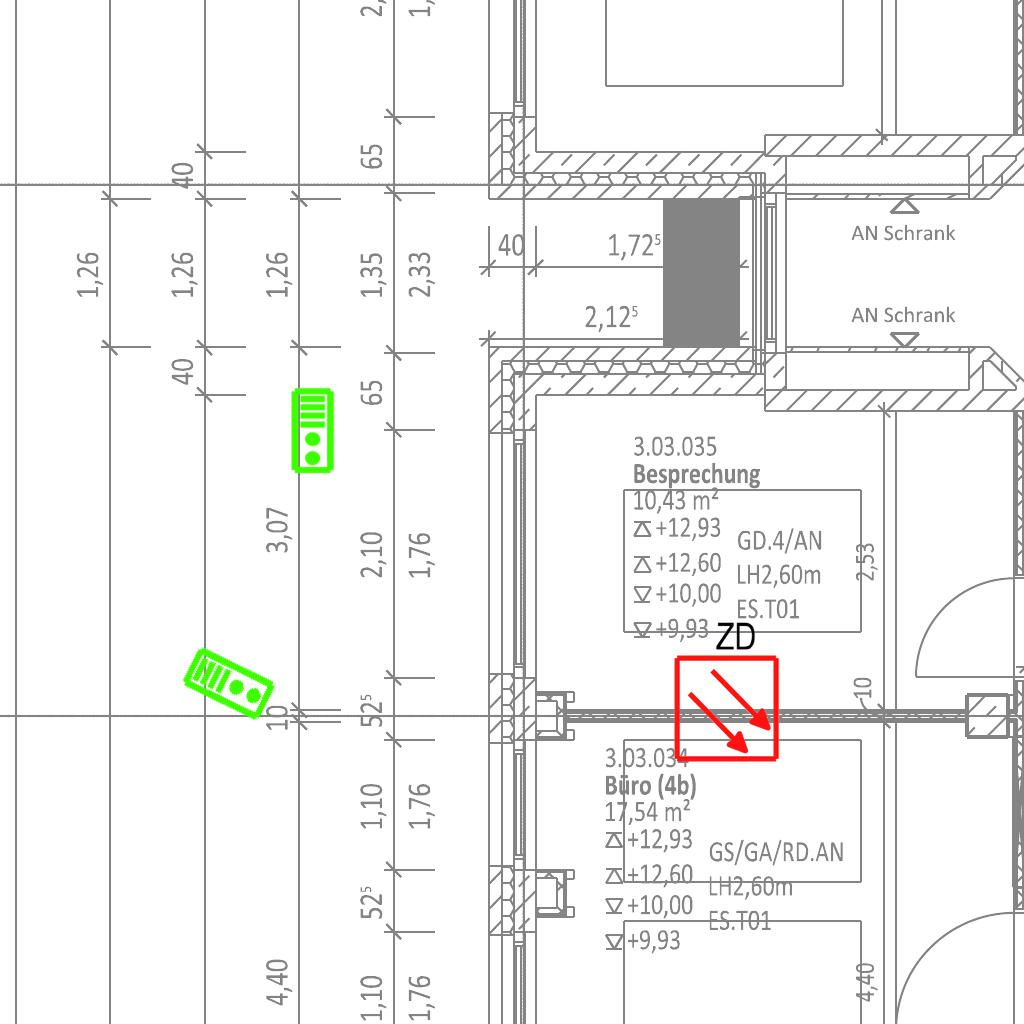Gegensprechanlage_mit_Video: (179, 642, 280, 724), (290, 387, 337, 475)
ZD_Melder_in_Zwischendecke_mit_Revisionsoeffnung_mind_40_x_40_cm: (668, 615, 782, 764)
